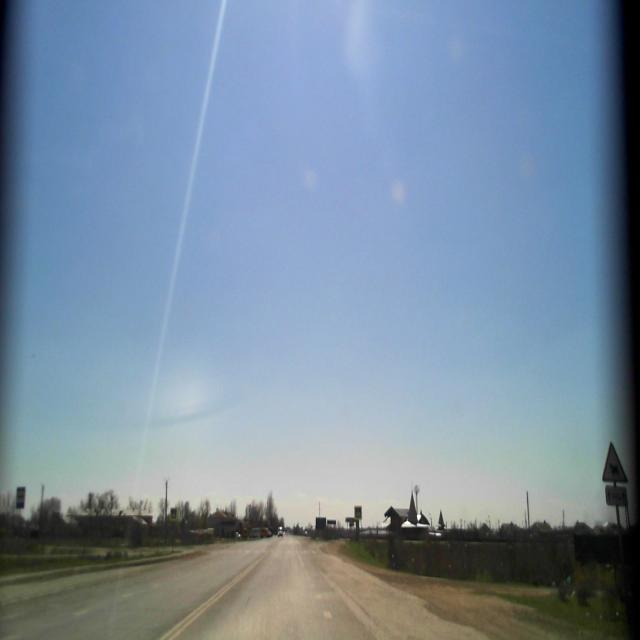road sign: (601, 442, 630, 484)
